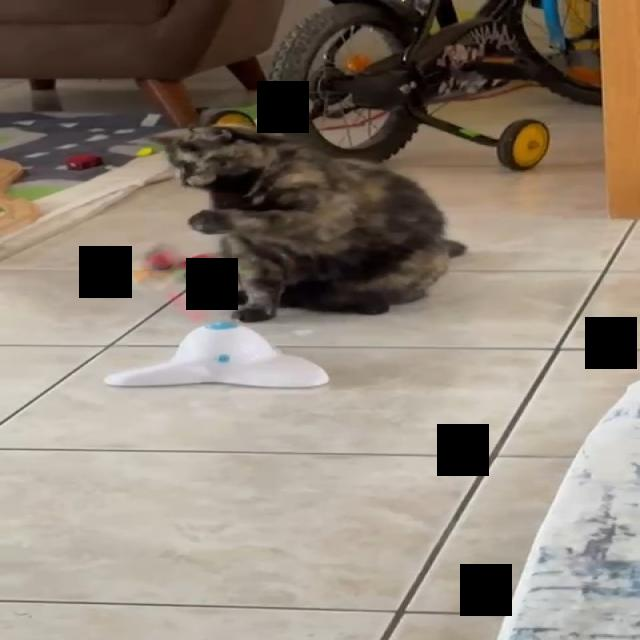authorized: (148, 112, 467, 323)
